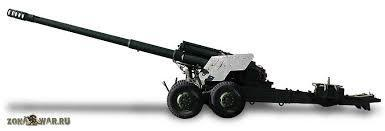sau: (4, 2, 385, 131)
